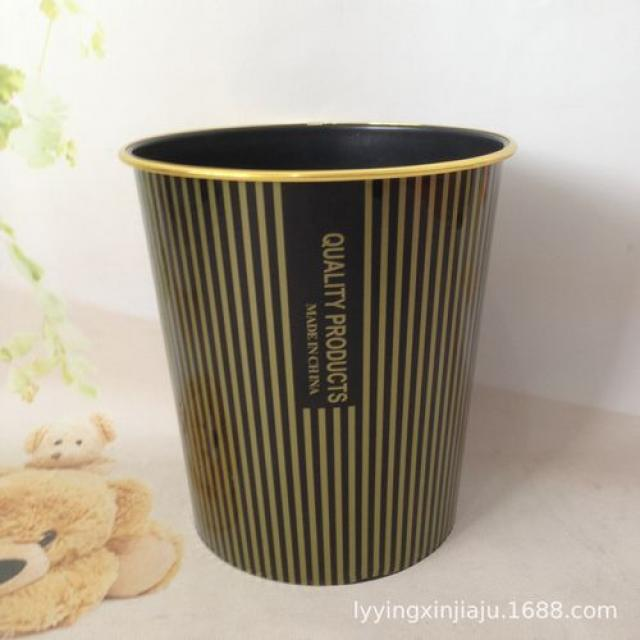Dustbin: (114, 114, 520, 592)
